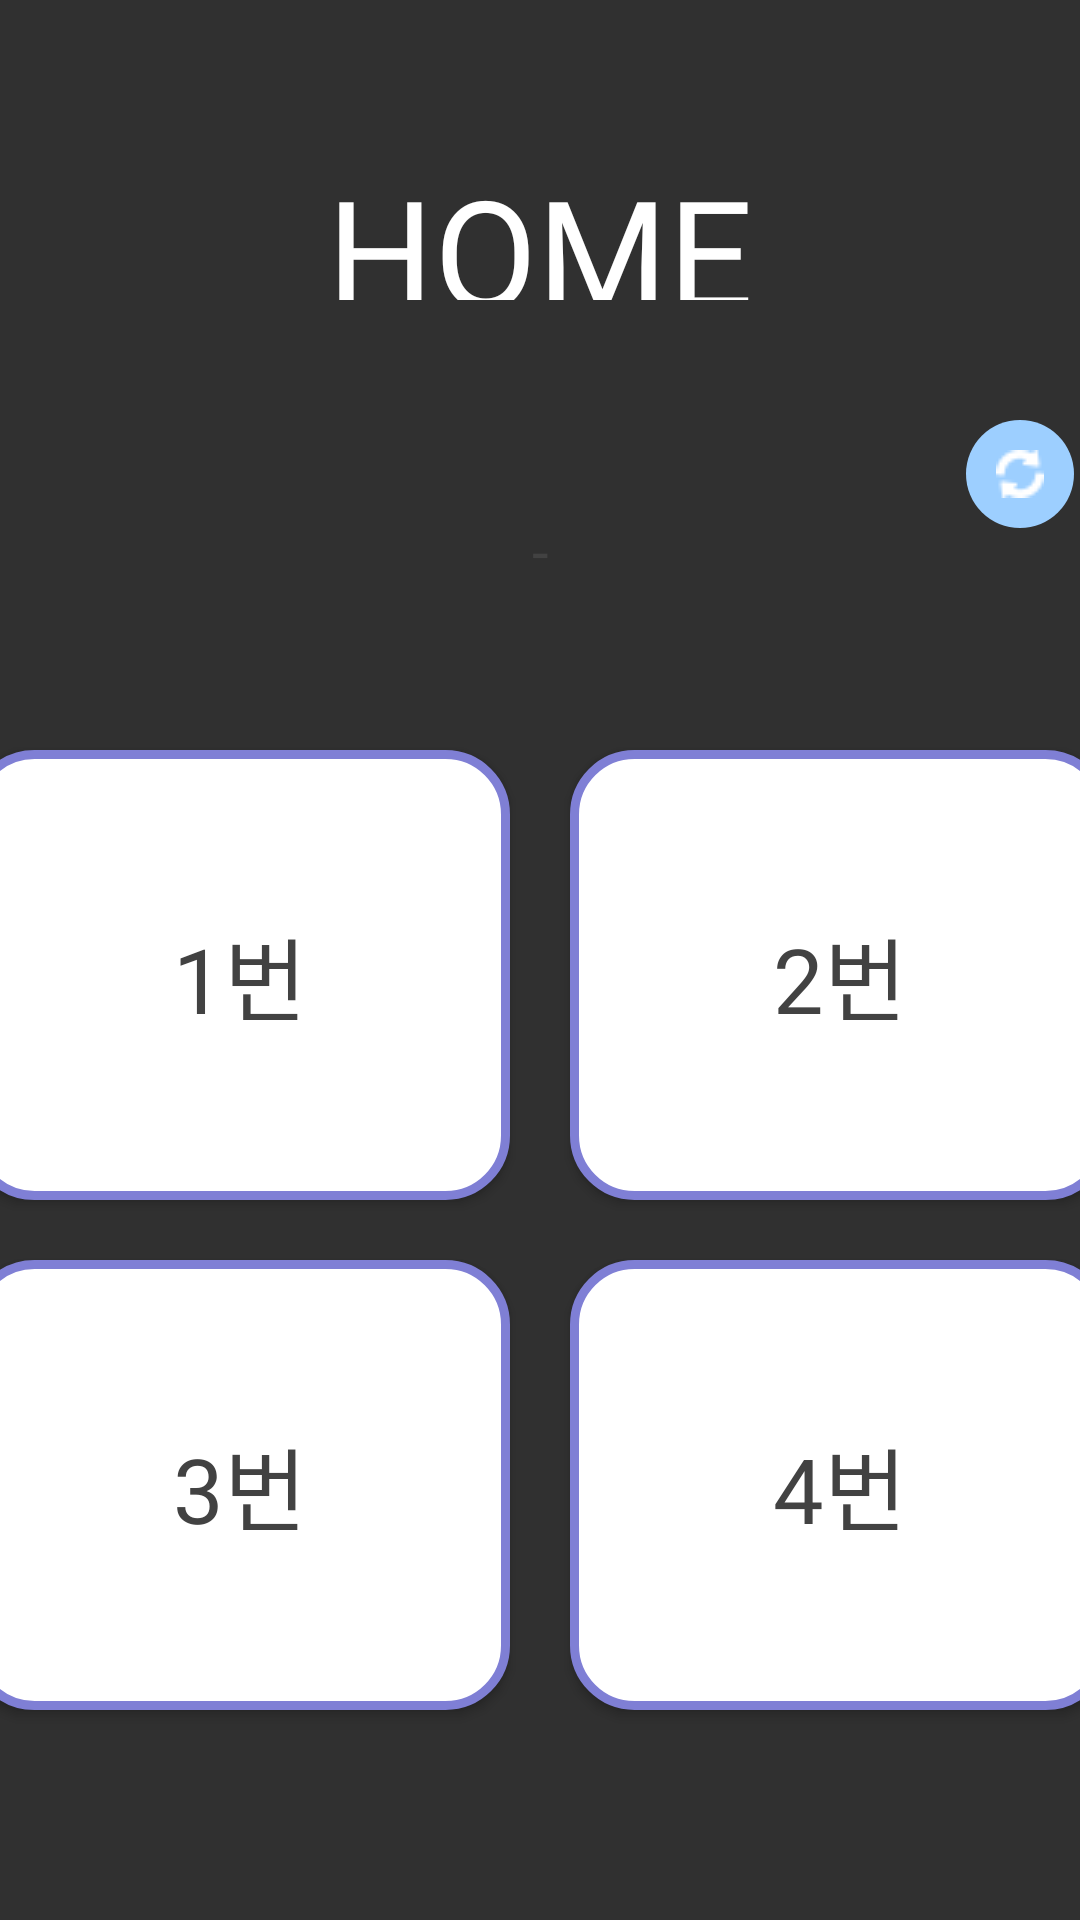

Named icons in this screenshot (1080w x 1920h) and their bounding boxes, {"left": x1, "top": y1, "right": x2, "bottom": y2}:
reload: {"left": 966, "top": 420, "right": 1074, "bottom": 528}
